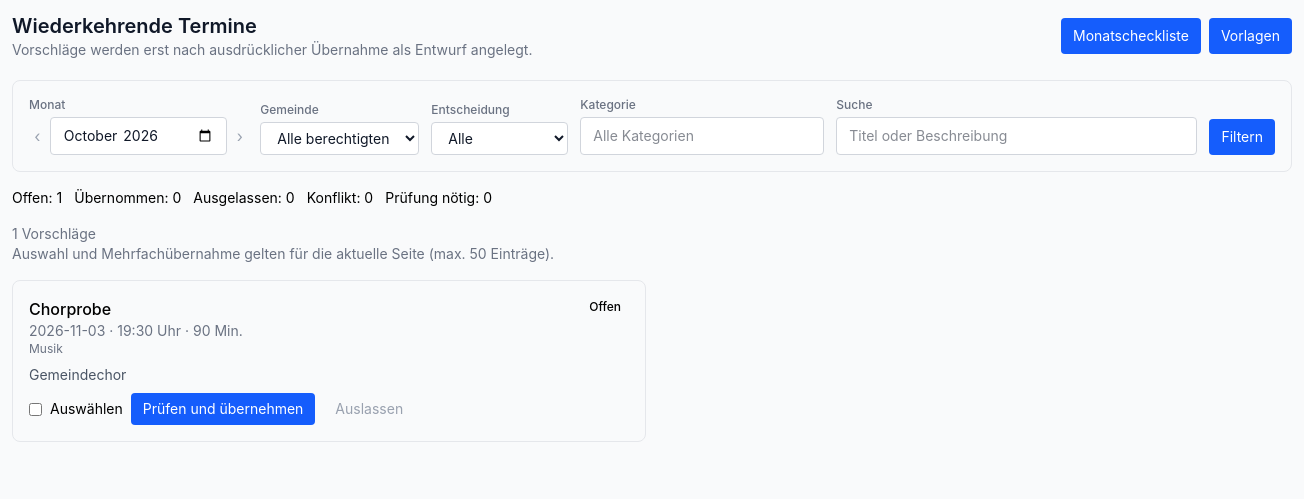
Test: recurring monthly checklist › shows a fixed message when the whole bulk request fails, never response text
Click the checkbox named "Chorprobe auswählen" at point(36, 409), box [29,402,42,416]
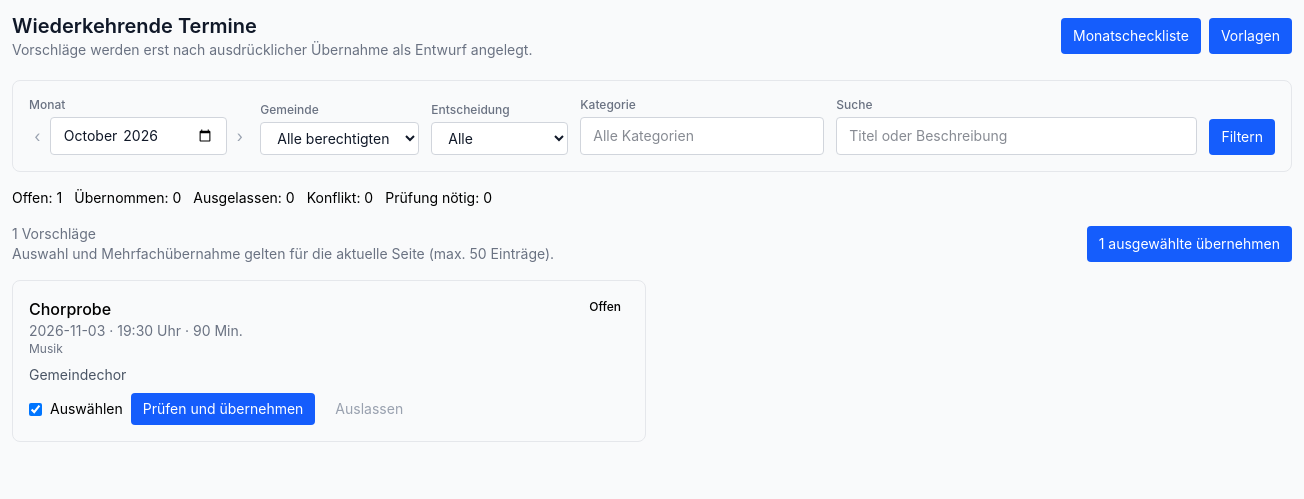
Click the button with test id "bulk-accept" at point(1189, 244), box [1087,226,1292,262]
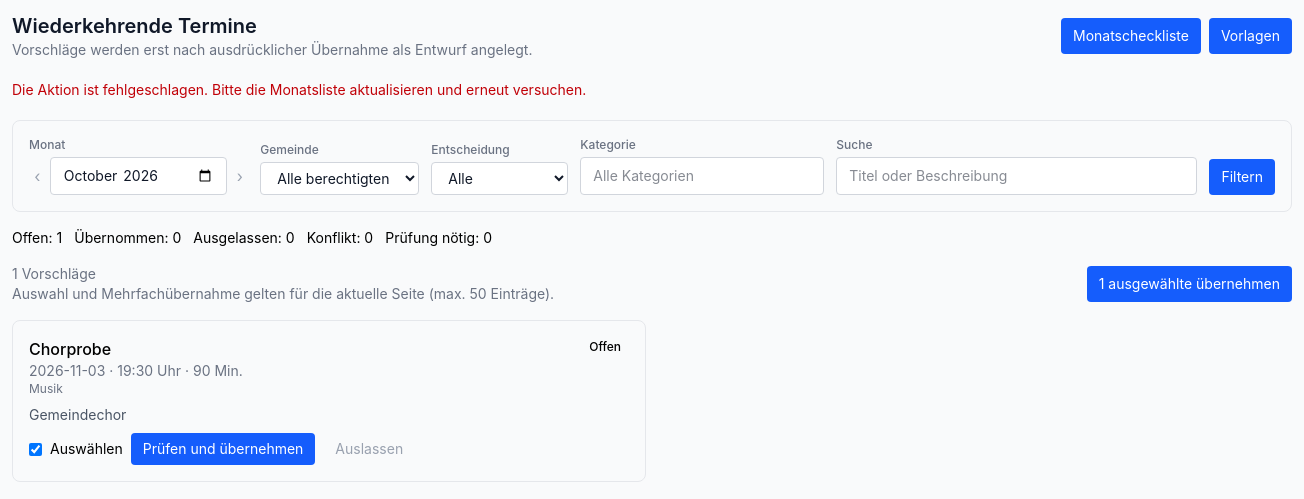
Check: the message shows "Die Aktion ist fehlgeschlagen", box [12,81,586,98]
